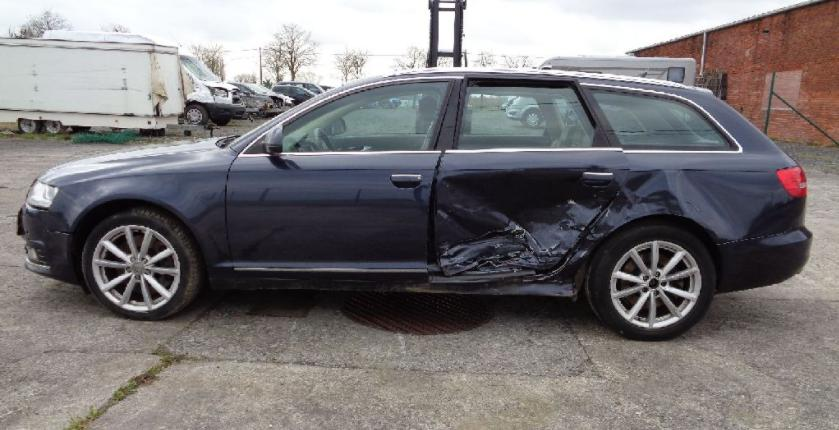Back-bumper: (718, 225, 812, 293)
Back-door: (434, 74, 629, 277)
Back-wheel: (585, 225, 715, 341)
Back-window: (580, 82, 739, 151)
Fender: (45, 170, 234, 272)
Front-bumper: (18, 205, 70, 282)
Front-door: (226, 76, 463, 272)
Front-wheel: (82, 208, 201, 320)
Headlight: (25, 180, 58, 208)
Hood: (35, 136, 238, 188)
Mirror: (244, 125, 283, 155)
Quarter-panel: (552, 151, 806, 272)
Rocker-panel: (208, 270, 577, 297)
Roof: (386, 68, 709, 97)
Tail-light: (776, 166, 807, 199)
